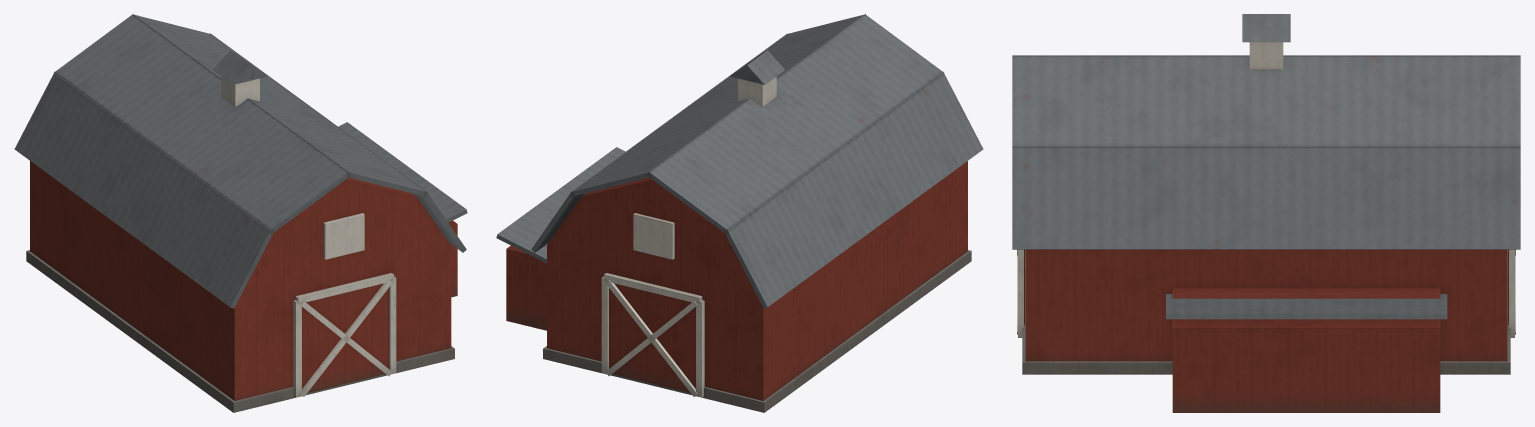
The model's file is barn.fbx.
3 views of the same model, side by side, from view 1: azimuth 30°, elevation 25°; view 2: azimuth 150°, elevation 25°; view 3: azimuth 270°, elevation 25° (orthographic). The views are drawn at different scales.
Parts seen in each view (by area): view 1: barn; view 2: barn; view 3: barn.
Part boxes in pixels (x1,y1,x2,y2): barn: (14, 14, 467, 412); barn: (496, 14, 983, 412); barn: (1012, 14, 1520, 412).
Bounding box in the file's own units: 1722 × 1372 × 2128.
Materials: 1 (1 with a texture image).
